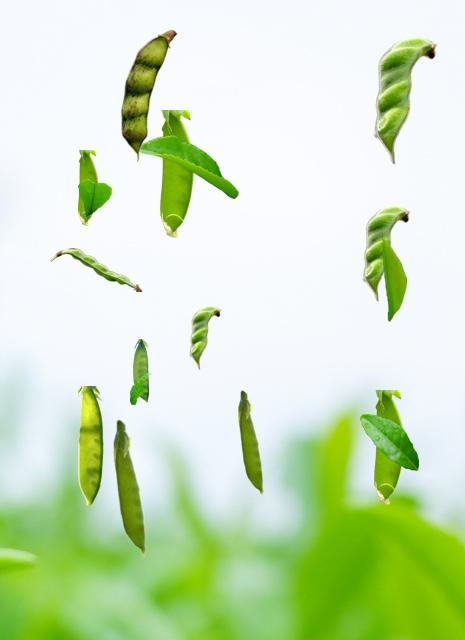pea: (373, 37, 439, 163), (121, 29, 176, 161), (112, 418, 146, 556), (362, 206, 411, 300), (160, 110, 192, 236), (50, 248, 141, 290), (374, 390, 402, 503), (78, 386, 102, 505), (237, 389, 263, 495), (189, 306, 221, 368), (78, 150, 96, 224), (133, 339, 147, 401)
